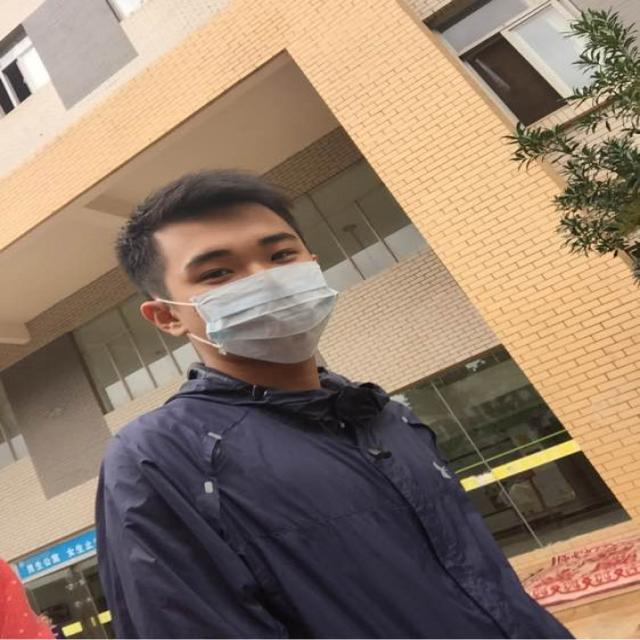mask: (174, 213, 338, 379)
